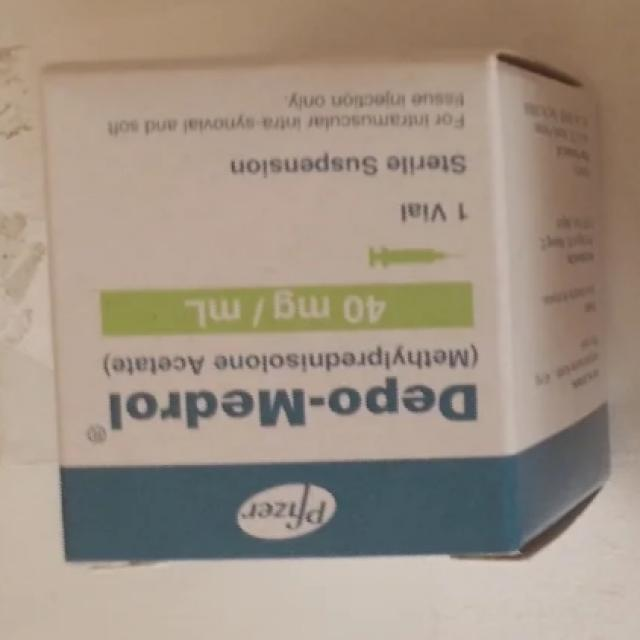drug-name: (96, 376, 480, 432)
